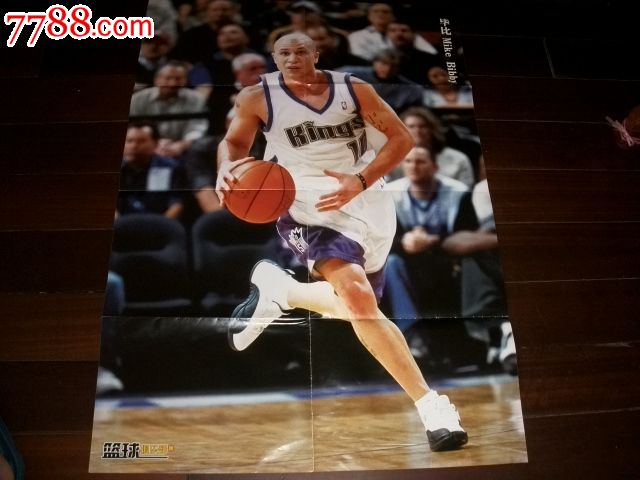ball: (221, 158, 295, 222)
